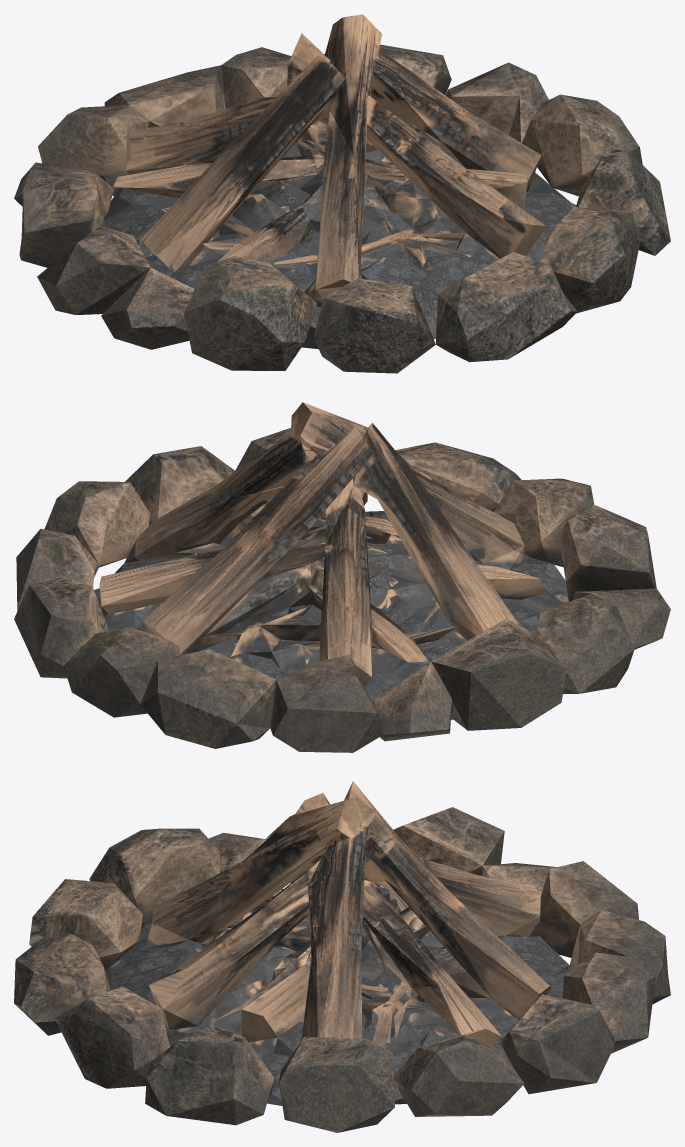
The model's file is campfire.fbx.
The picture shows the model from 3 angles, top to bottom: view 1: azimuth 30°, elevation 25°; view 2: azimuth 150°, elevation 25°; view 3: azimuth 270°, elevation 25°; orthographic projection.
Parts seen in each view (by area): view 1: output_unwrapped; view 2: output_unwrapped; view 3: output_unwrapped.
Part boxes in pixels (x1,y1,x2,y2): output_unwrapped: [14, 14, 670, 373]; output_unwrapped: [14, 402, 670, 752]; output_unwrapped: [14, 781, 670, 1132].
Bounding box in the file's own units: 189 × 70.07 × 188.
Materials: 1 (1 with a texture image).
